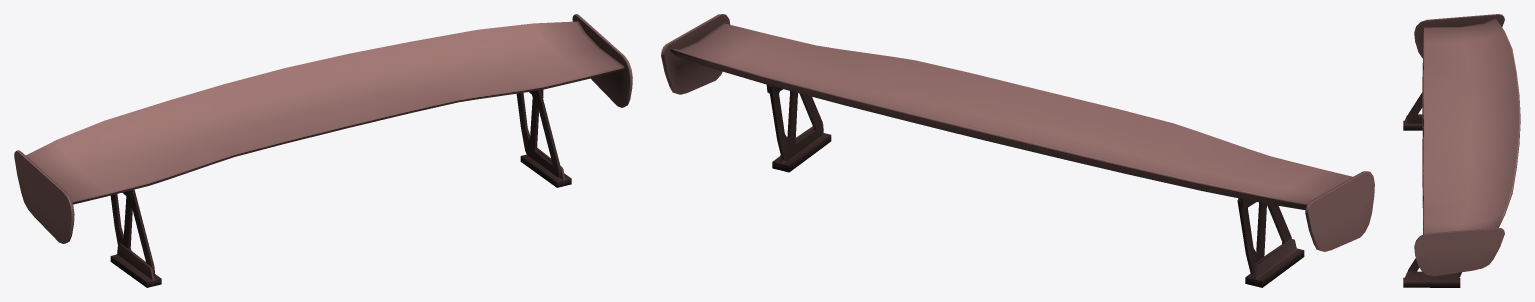
File: Mustang16_Spoiler_08_Trim.fbx
The picture shows the model from 3 angles, left to right: view 1: azimuth 30°, elevation 25°; view 2: azimuth 150°, elevation 25°; view 3: azimuth 270°, elevation 25°; orthographic projection. The views are drawn at different scales.
Visible parts, largest first — view 1: Mustang16_Spoiler_08_Trim; view 2: Mustang16_Spoiler_08_Trim; view 3: Mustang16_Spoiler_08_Trim.
Boxes of the visible parts, x1,y1,x2,y2 form: Mustang16_Spoiler_08_Trim: (14,14,632,287); Mustang16_Spoiler_08_Trim: (661,14,1374,287); Mustang16_Spoiler_08_Trim: (1403,14,1520,287).
Size of the model in its own units: 163 by 31.9 by 37.74.
